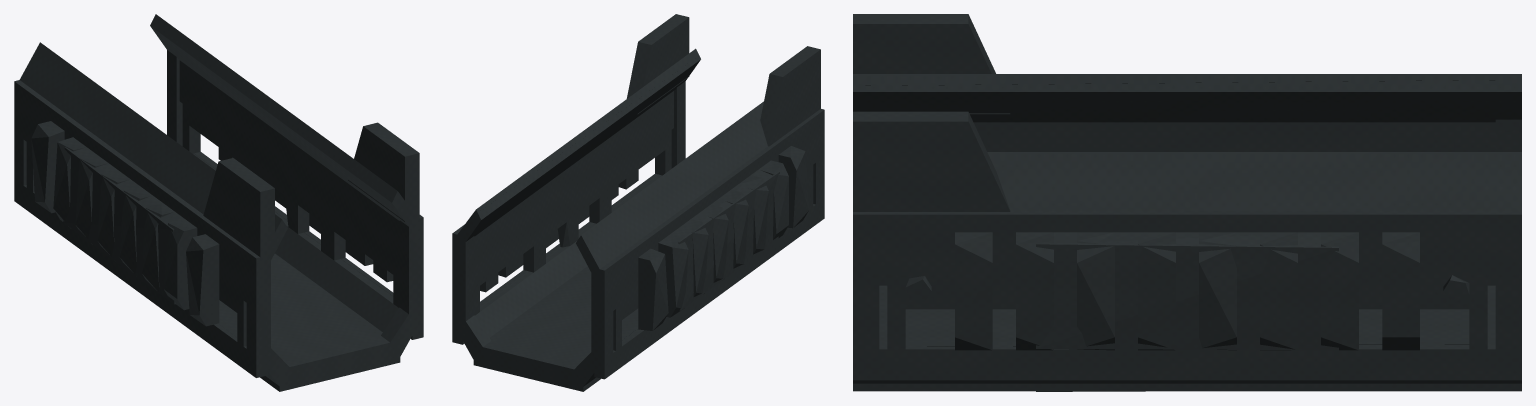
Rendered from scar_guard.glb.
3 views of the same model, side by side, from view 1: azimuth 30°, elevation 25°; view 2: azimuth 150°, elevation 25°; view 3: azimuth 270°, elevation 25° (orthographic). The views are drawn at different scales.
Parts seen in each view (by area): view 1: handguard__scar_guard_LOD0_RAID_Secondary_Original_steel, handguard__scar_guard_LOD1_RAID_Secondary_Original_steel; view 2: handguard__scar_guard_LOD0_RAID_Secondary_Original_steel, handguard__scar_guard_LOD1_RAID_Secondary_Original_steel; view 3: handguard__scar_guard_LOD0_RAID_Secondary_Original_steel, handguard__scar_guard_LOD1_RAID_Secondary_Original_steel.
Part boxes in pixels (bbox=[...]): handguard__scar_guard_LOD0_RAID_Secondary_Original_steel: bbox=[14, 14, 423, 391]; handguard__scar_guard_LOD1_RAID_Secondary_Original_steel: bbox=[27, 105, 423, 376]; handguard__scar_guard_LOD0_RAID_Secondary_Original_steel: bbox=[452, 14, 824, 391]; handguard__scar_guard_LOD1_RAID_Secondary_Original_steel: bbox=[454, 15, 821, 376]; handguard__scar_guard_LOD0_RAID_Secondary_Original_steel: bbox=[853, 14, 1521, 391]; handguard__scar_guard_LOD1_RAID_Secondary_Original_steel: bbox=[853, 14, 1495, 391].
Size of the model in its own units: 0.126 by 0.128 by 0.255.
1 material, 1 textured.
